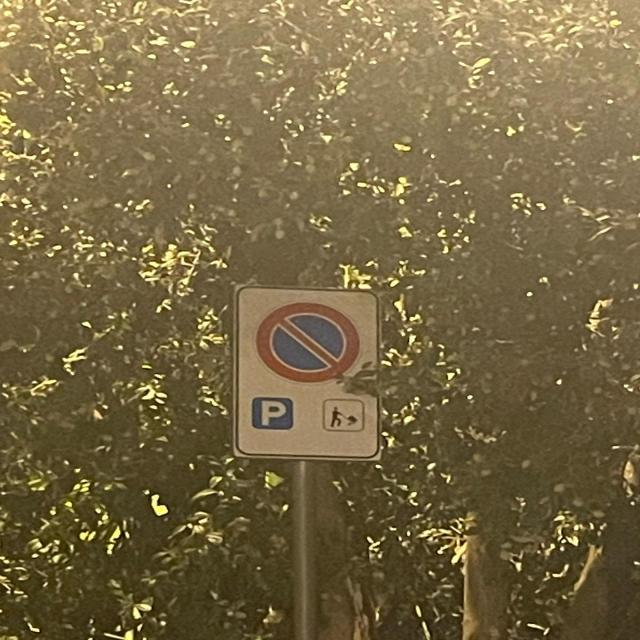forb_stopping: (255, 301, 361, 385)
